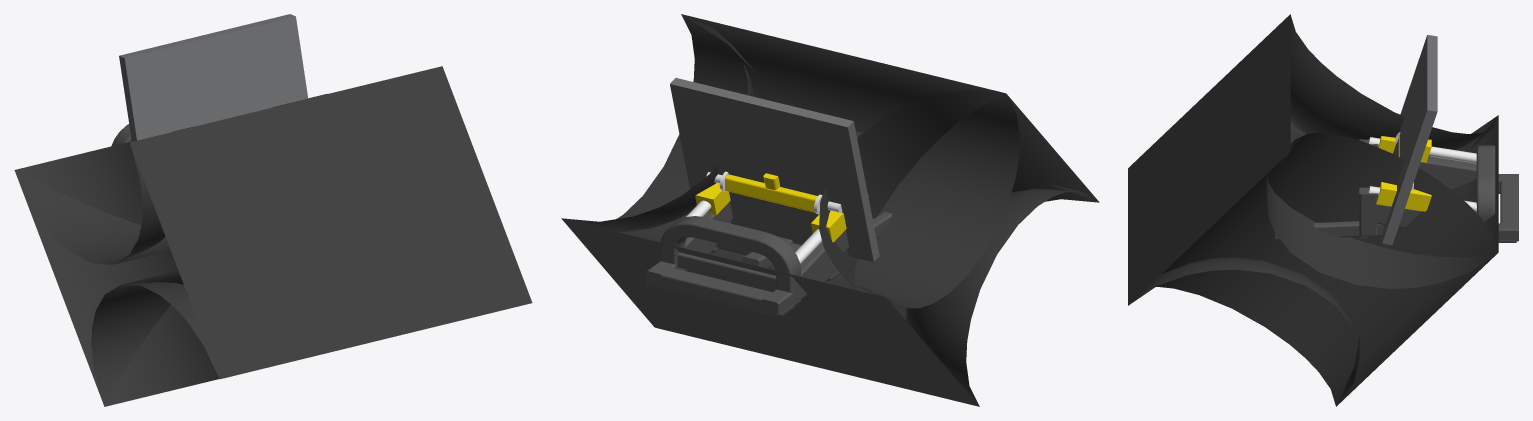
The picture shows the model from 3 angles, left to right: view 1: azimuth 30°, elevation 25°; view 2: azimuth 150°, elevation 25°; view 3: azimuth 270°, elevation 25°; orthographic projection. The views are drawn at different scales.
Parts seen in each view (by area): view 1: backrest_pad, foot_plate; view 2: backrest_pad, foot_plate, base, rear_arch_tube, rear_tie, carriage_beam, rail_beam (×2), carriage_slider (×2); view 3: backrest_pad, foot_plate, rail_beam (×2), frame, base, rear_arch_tube, carriage_slider (×2), rail.
Part boxes in pixels (<box>): backrest_pad: <box>14,66,532,406</box>; foot_plate: <box>119,14,308,211</box>; backrest_pad: <box>561,14,1099,406</box>; foot_plate: <box>670,78,879,262</box>; base: <box>645,242,840,316</box>; rear_arch_tube: <box>660,216,801,304</box>; rear_tie: <box>677,252,776,290</box>; carriage_beam: <box>725,174,817,212</box>; rail_beam (×2): <box>685,201,848,295</box>; carriage_slider (×2): <box>695,183,846,242</box>; backrest_pad: <box>1128,14,1498,406</box>; foot_plate: <box>1382,35,1437,245</box>; rail_beam (×2): <box>1361,156,1476,227</box>; frame: <box>1275,139,1429,239</box>; base: <box>1359,174,1518,242</box>; rear_arch_tube: <box>1476,145,1495,221</box>; carriage_slider (×2): <box>1376,136,1431,211</box>; rail: <box>1368,137,1476,163</box>.
Bounding box in the file's own units: 1 × 0.9 × 1.2.
